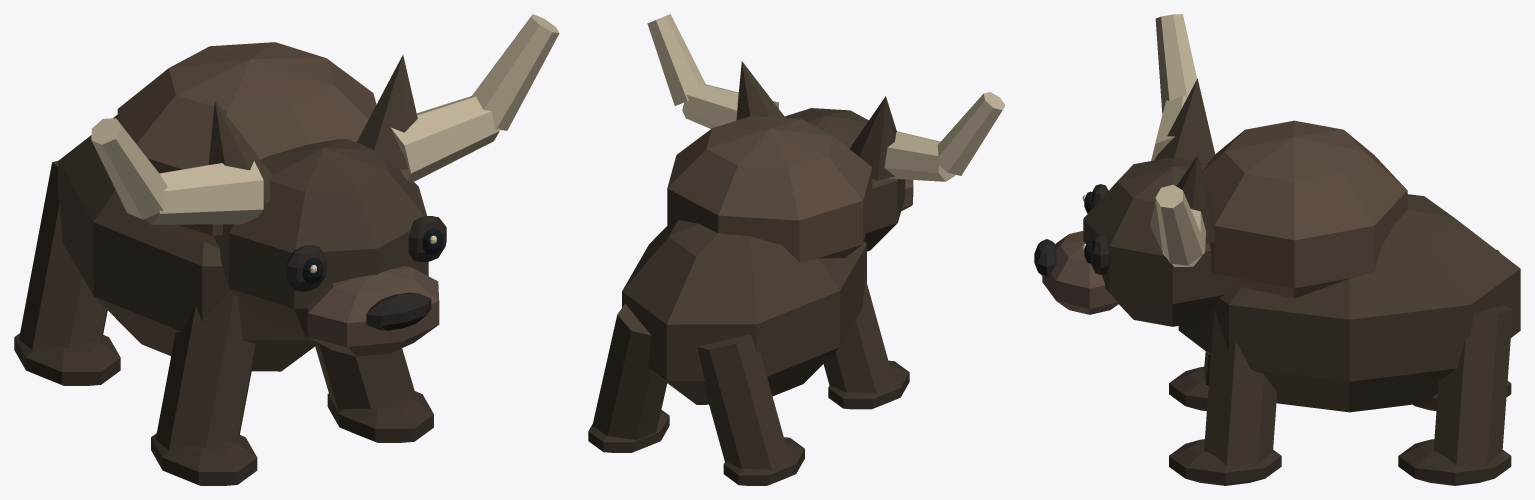
File: fauna-highland_aurochs.glb
3 views of the same model, side by side, from view 1: azimuth 30°, elevation 25°; view 2: azimuth 150°, elevation 25°; view 3: azimuth 270°, elevation 25° (orthographic). The views are drawn at different scales.
Parts seen in each view (by area): view 1: Fauna_highland_aurochs; view 2: Fauna_highland_aurochs; view 3: Fauna_highland_aurochs.
Part boxes in pixels (x1=…): Fauna_highland_aurochs: x1=14, y1=14, x2=559, y2=485; Fauna_highland_aurochs: x1=588, y1=14, x2=1005, y2=485; Fauna_highland_aurochs: x1=1034, y1=14, x2=1520, y2=485.
Size of the model in its own units: 1.63 by 1.37 by 1.76.
